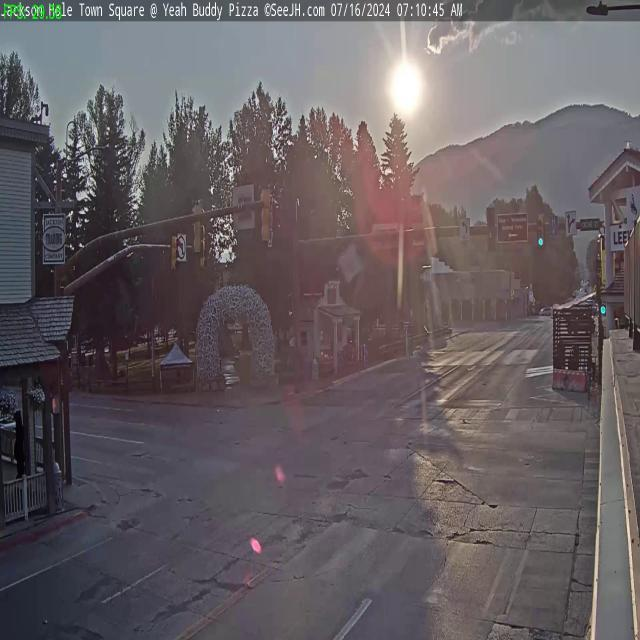suv: (260, 185, 274, 245), (192, 200, 202, 253), (486, 204, 496, 250), (200, 231, 208, 270), (170, 233, 178, 270), (536, 214, 544, 248)
